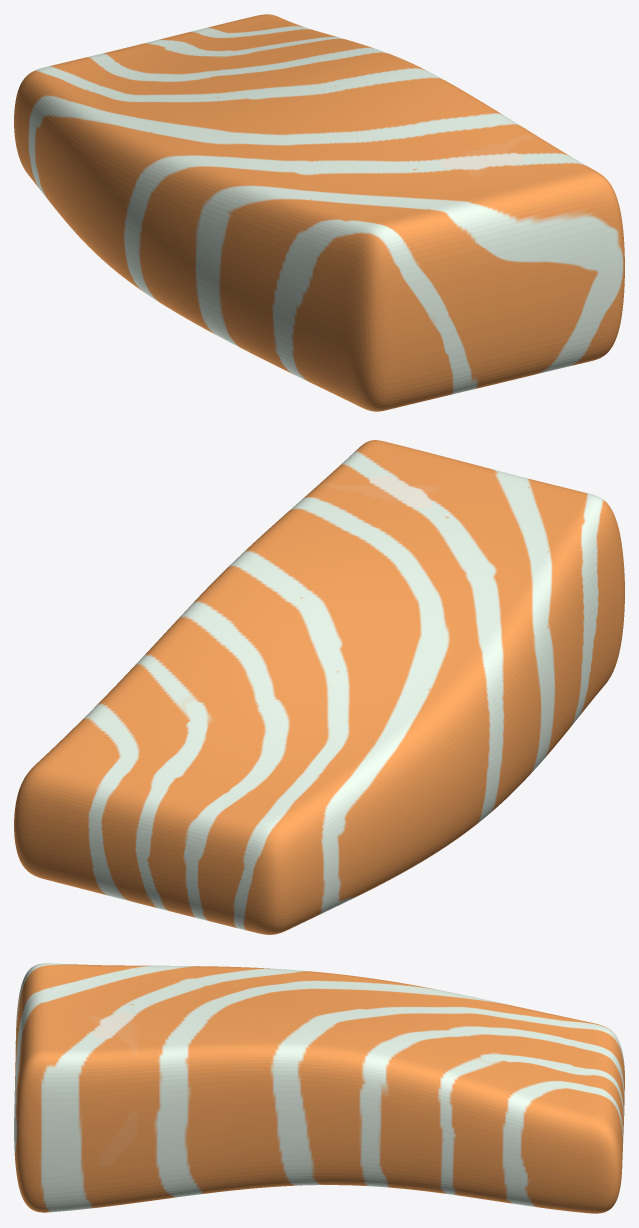
The model's file is 生魚片.fbx.
3 renders of one model, top to bottom at view 1: azimuth 30°, elevation 25°; view 2: azimuth 150°, elevation 25°; view 3: azimuth 270°, elevation 25°, orthographic. The views are drawn at different scales.
Parts seen in each view (by area): view 1: Cube; view 2: Cube; view 3: Cube.
Part boxes in pixels (x1,y1,x2,y2): Cube: (14,14,624,411); Cube: (14,440,624,934); Cube: (14,963,624,1213).
Size of the model in its own units: 245 by 141 by 482.
